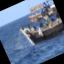fishing boat: (9, 0, 64, 51)
